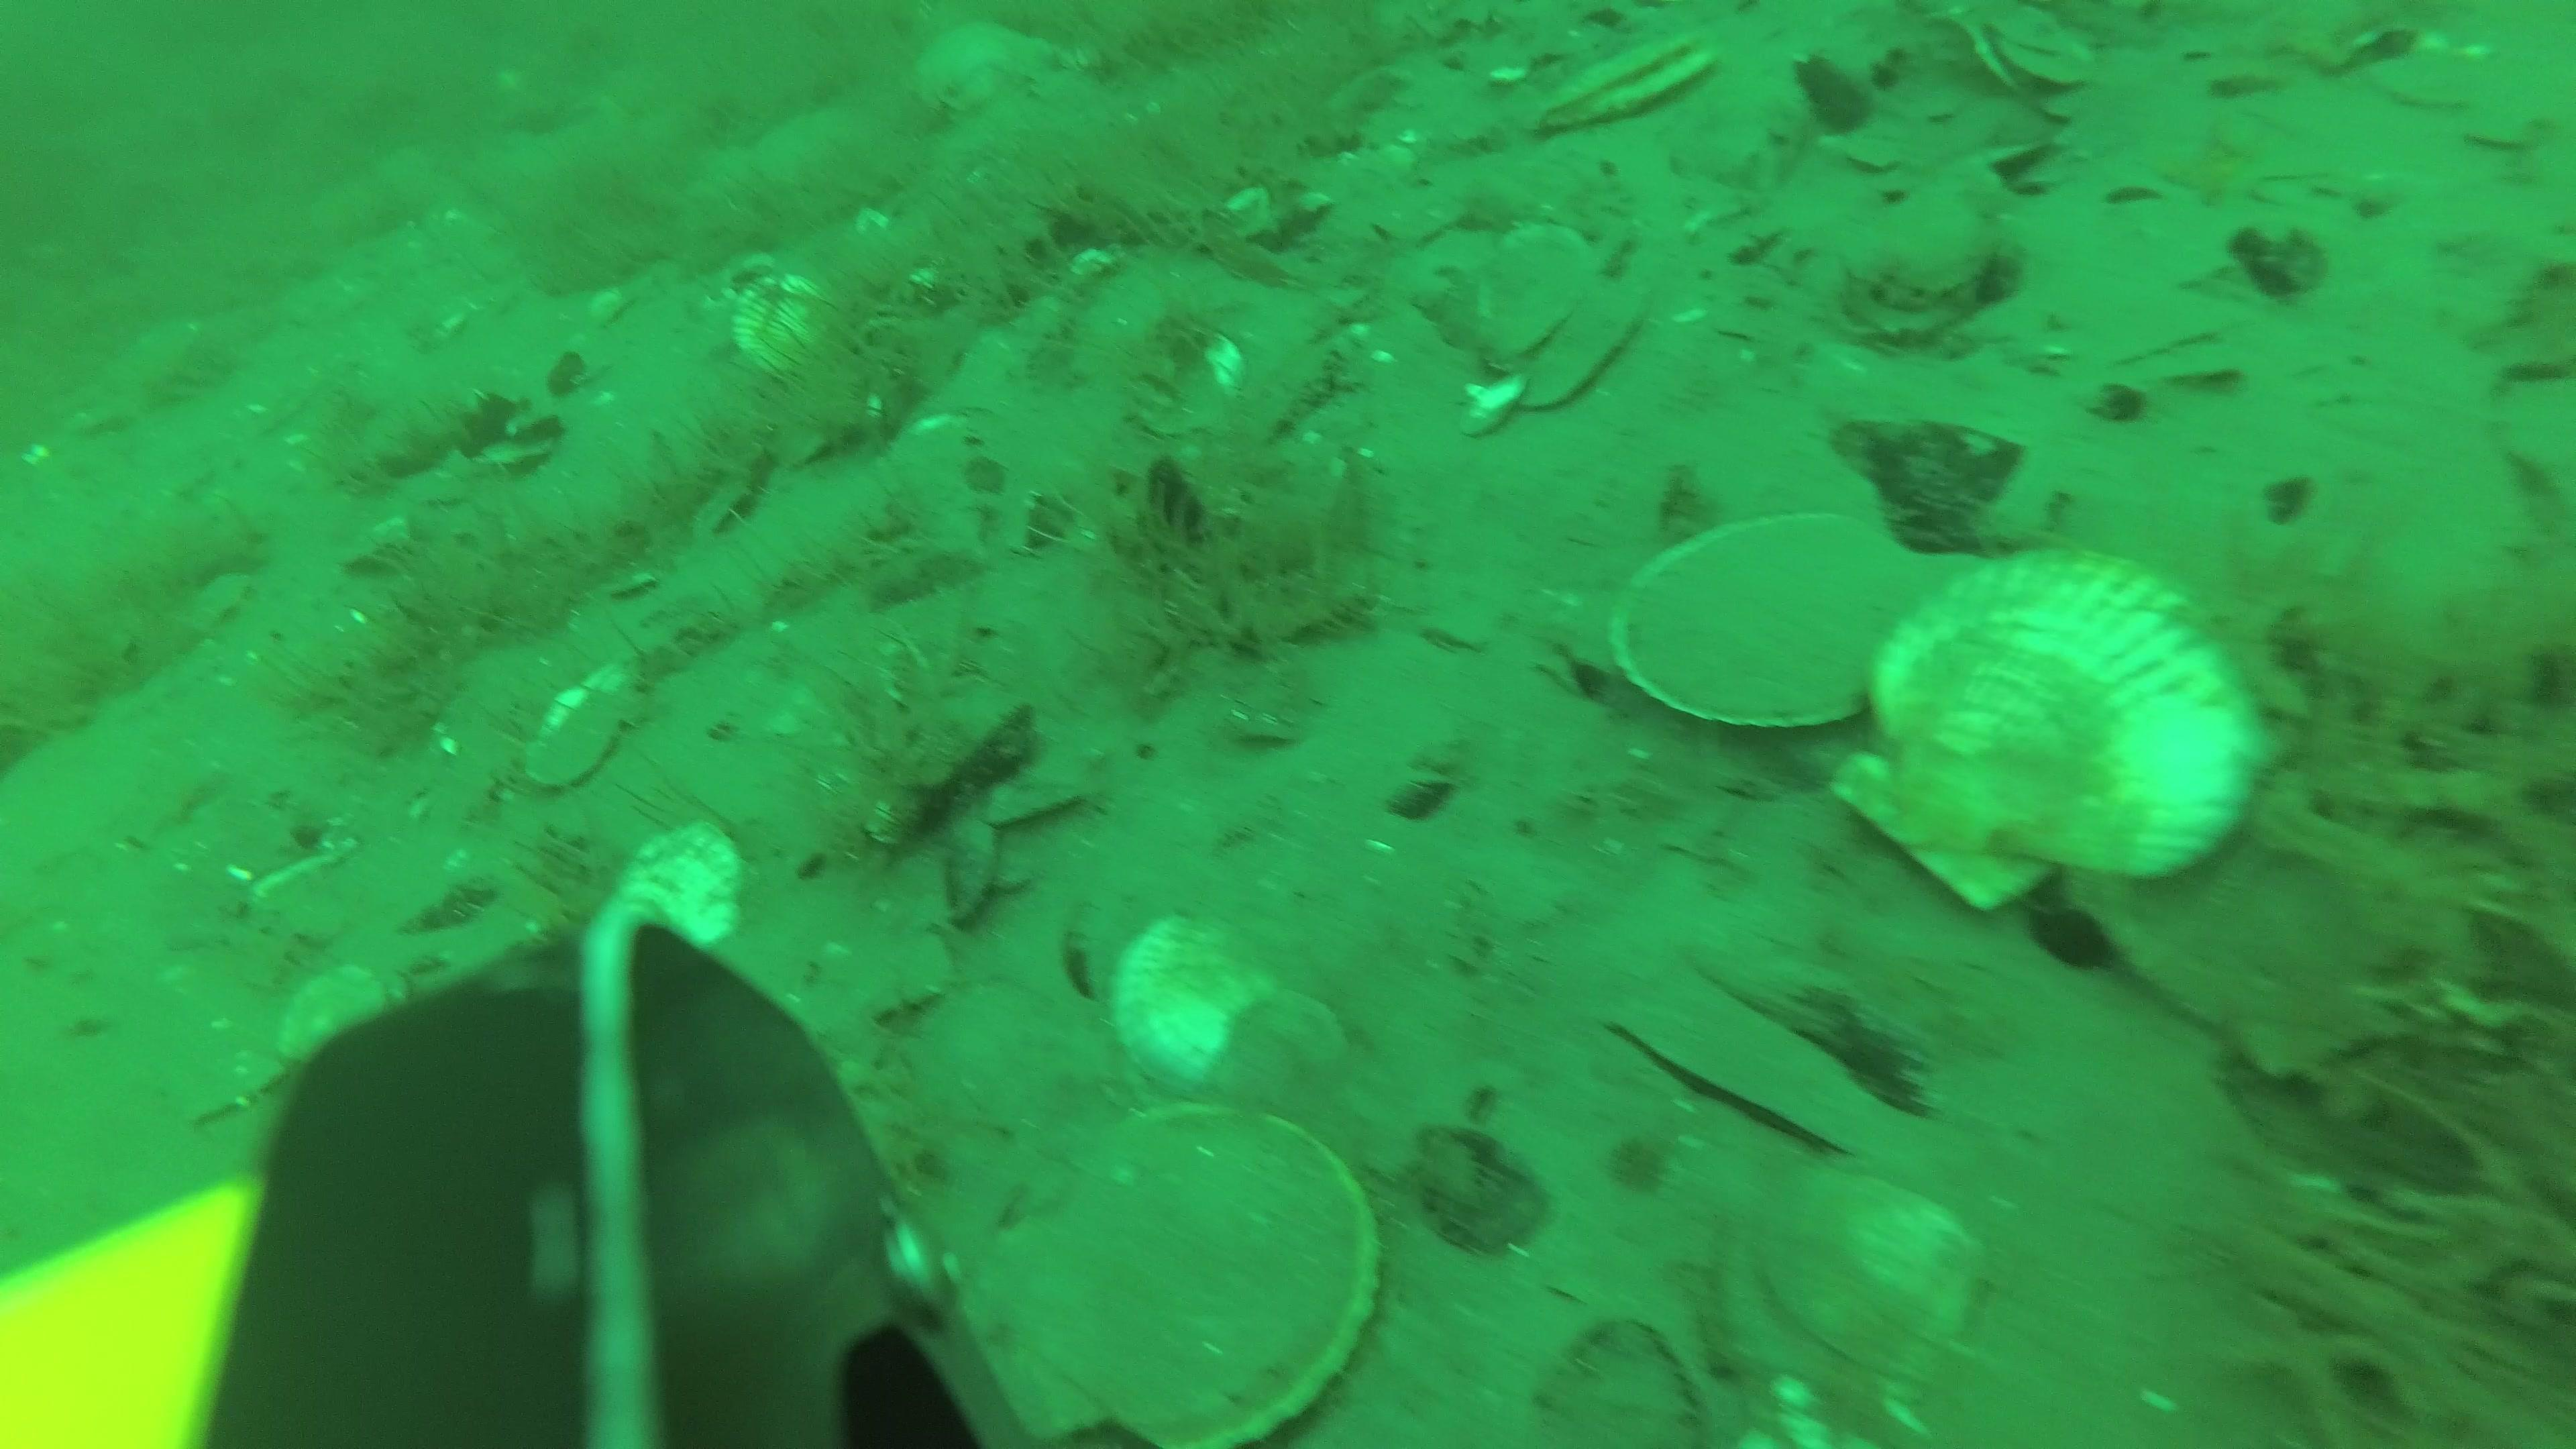scallop: (1831, 552, 2261, 908), (991, 1109, 1373, 1440), (1598, 508, 1934, 722), (1755, 1161, 1982, 1384), (1111, 899, 1274, 1085), (1527, 32, 1716, 131), (1511, 276, 1645, 410), (630, 821, 750, 950), (1479, 226, 1594, 359), (533, 651, 646, 786), (1223, 998, 1346, 1100), (280, 971, 396, 1063), (740, 269, 835, 366)
starfish: (911, 23, 1053, 106)
